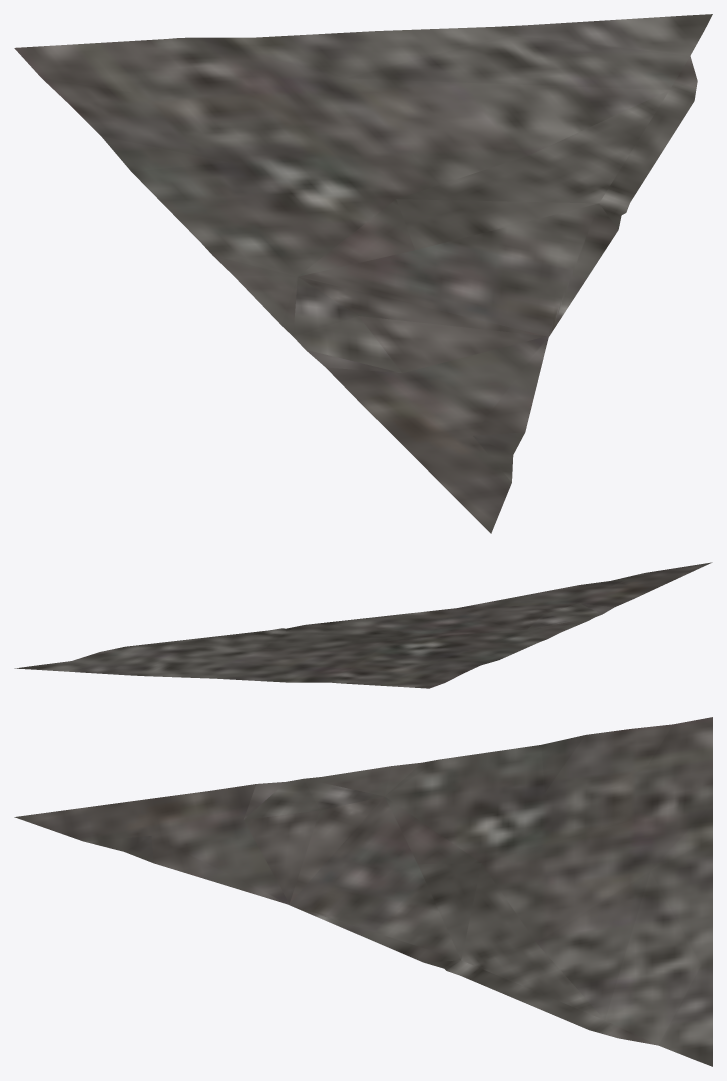
The picture shows the model from 3 angles, top to bottom: view 1: azimuth 30°, elevation 25°; view 2: azimuth 150°, elevation 25°; view 3: azimuth 270°, elevation 25°; orthographic projection. The views are drawn at different scales.
Bounding box in the file's own units: 0.3399 × 0.0635 × 0.4019.
Materials: 1 (1 with a texture image).
